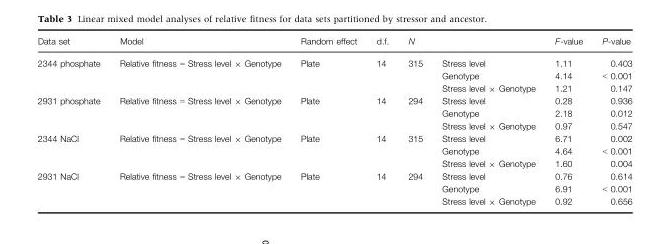table: (36, 36, 631, 205)
table column: (109, 36, 290, 205), (431, 36, 544, 205), (290, 36, 366, 205), (36, 36, 109, 205), (544, 36, 591, 205), (591, 36, 631, 205), (397, 36, 431, 205), (366, 36, 397, 205)
table column header: (36, 36, 631, 51)
table row: (36, 51, 631, 68), (36, 36, 631, 51), (36, 68, 631, 81), (36, 81, 631, 94), (36, 106, 631, 119), (36, 131, 631, 144), (36, 144, 631, 157), (36, 181, 631, 194), (36, 94, 631, 106), (36, 119, 631, 131), (36, 157, 631, 169), (36, 169, 631, 181), (36, 194, 631, 205)
table spanning cell: (109, 51, 290, 94), (109, 131, 290, 169), (109, 94, 290, 131), (109, 169, 290, 205), (290, 51, 366, 94), (36, 51, 109, 94), (290, 131, 366, 169), (290, 94, 366, 131), (36, 131, 109, 169), (290, 169, 366, 205), (36, 94, 109, 131), (36, 169, 109, 205), (397, 51, 431, 94), (366, 51, 397, 94), (397, 131, 431, 169), (397, 94, 431, 131), (397, 169, 431, 205), (366, 131, 397, 169), (366, 94, 397, 131), (366, 169, 397, 205)
